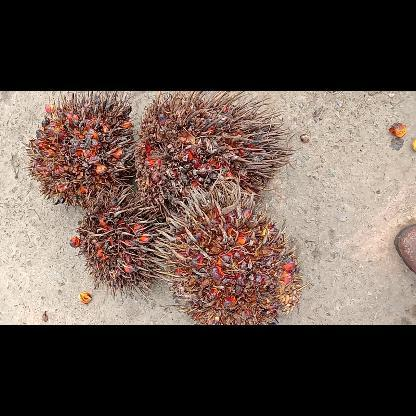Terlalu masak: (154, 172, 314, 324), (130, 91, 300, 216), (26, 90, 140, 208), (74, 182, 172, 304)
